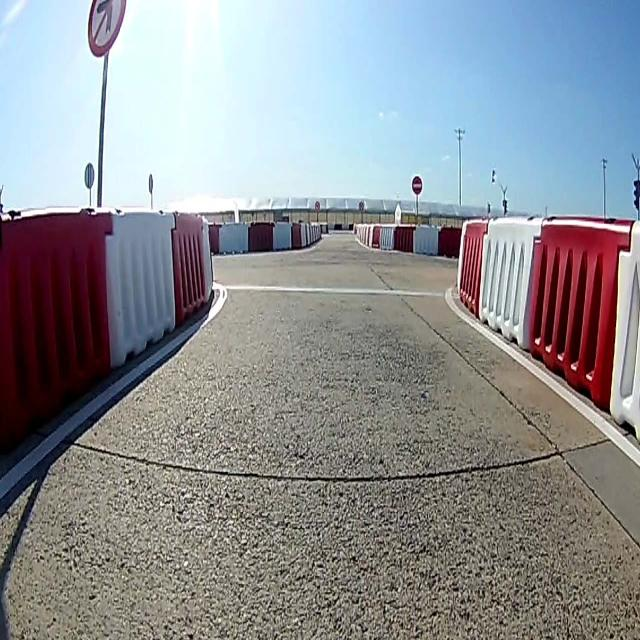girisyok: (411, 174, 423, 195)
soladonulmez: (83, 1, 129, 67)
